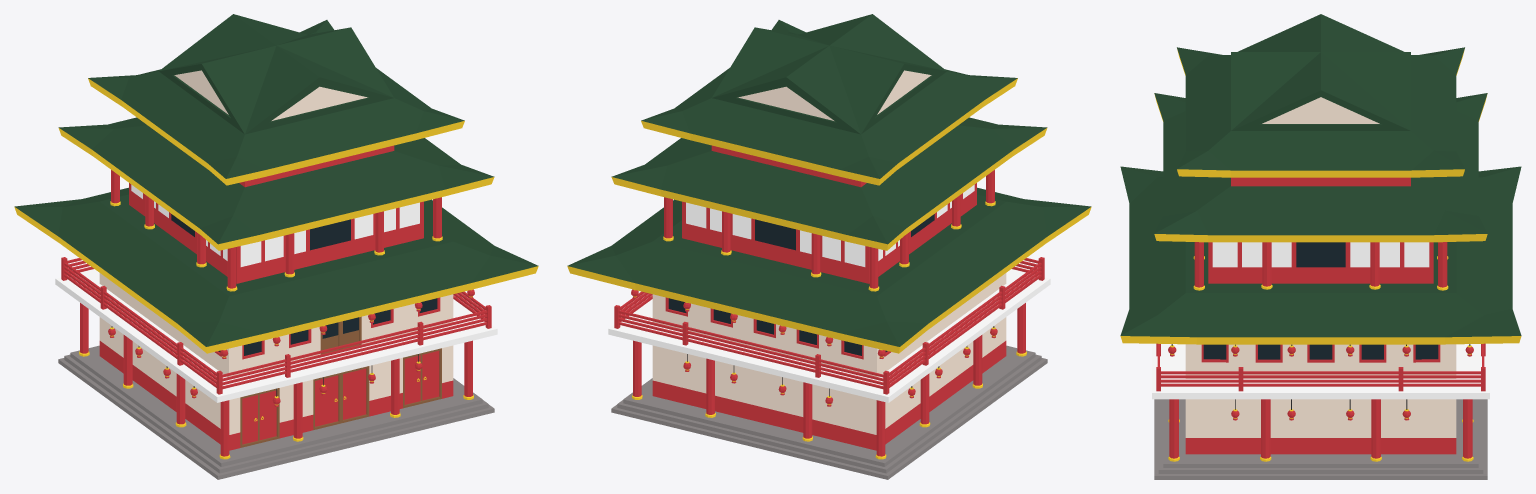
File: building-temple-china.glb
3 renders of one model, left to right at view 1: azimuth 30°, elevation 25°; view 2: azimuth 150°, elevation 25°; view 3: azimuth 270°, elevation 25°, orthographic. The views are drawn at different scales.
Visible parts, largest first — view 1: building-temple-china; view 2: building-temple-china; view 3: building-temple-china.
Part boxes in pixels (x1,y1,x2,y2): building-temple-china: (14,14,538,479); building-temple-china: (567,14,1091,479); building-temple-china: (1120,14,1521,479).
Size of the model in its own units: 17.8 by 17.5 by 17.8.
Materials: 1 (1 with a texture image).
